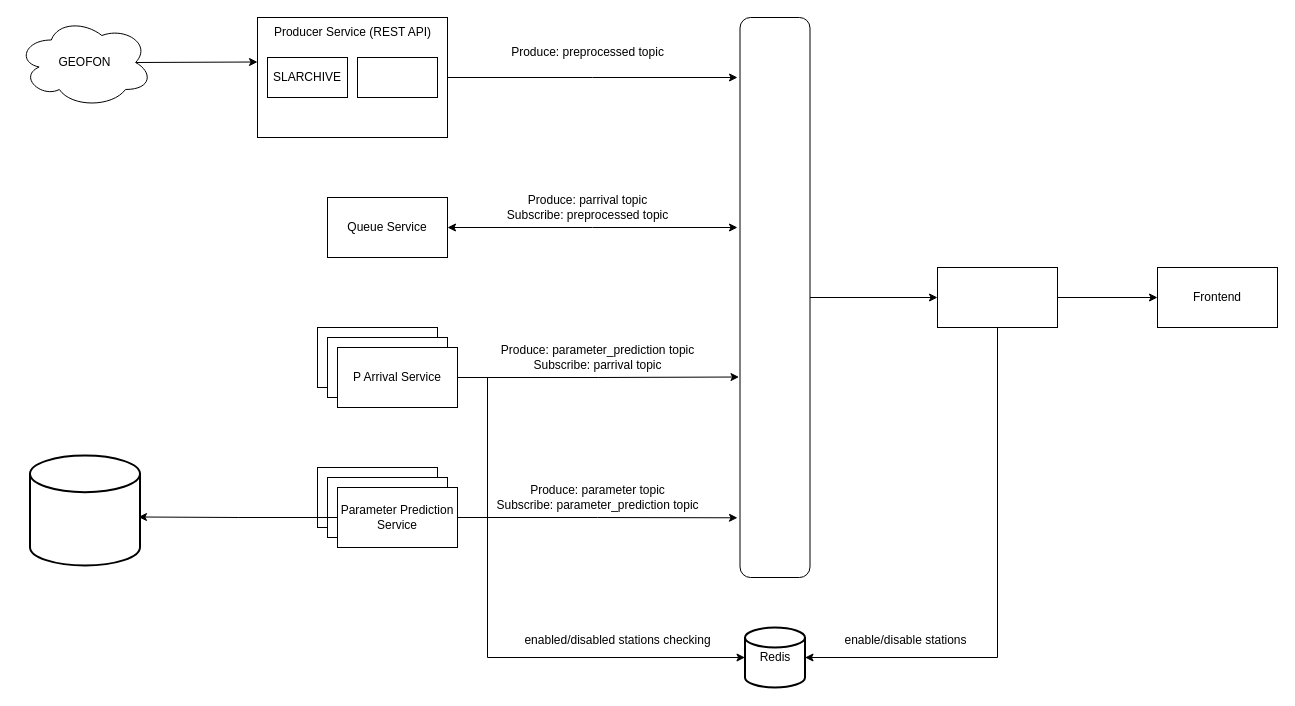
Image size: 1295x706. Some labels were removed from this diagram. Here are the shapes that lost their labels. From the top down, the centre of each, then its label:
(x=397, y=77): FDSNWS
(x=774, y=297): K A F K A
(x=997, y=297): REST API & Websocket
(x=84, y=510): MongoDB
